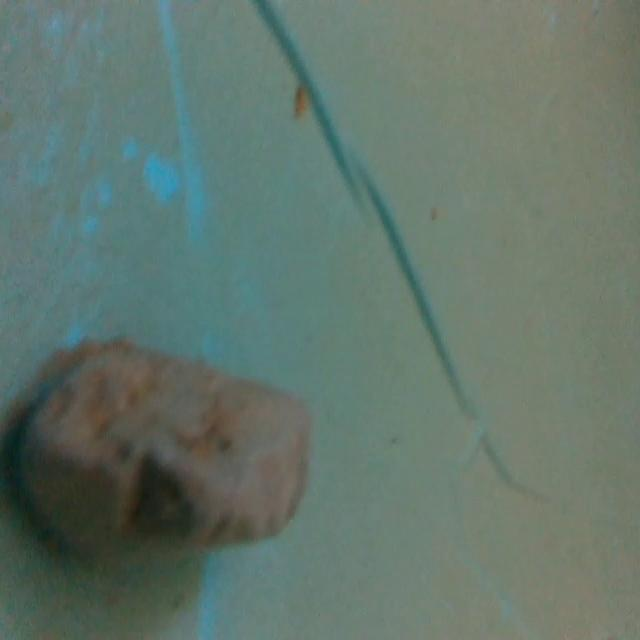rock: (3, 333, 319, 575)
